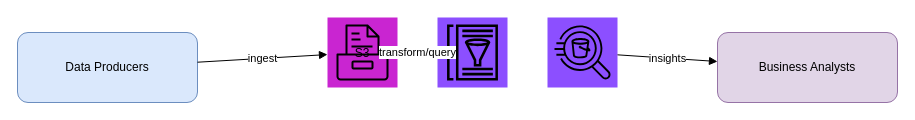
The diagram is 915 pixels wide and 120 high, and some of its shapes have lost their labels. Here are the shapes that lost their labels. From the top down, the centre of each, then its label:
At pixel 472 52: "Glue".
At pixel 582 52: "Athena".
